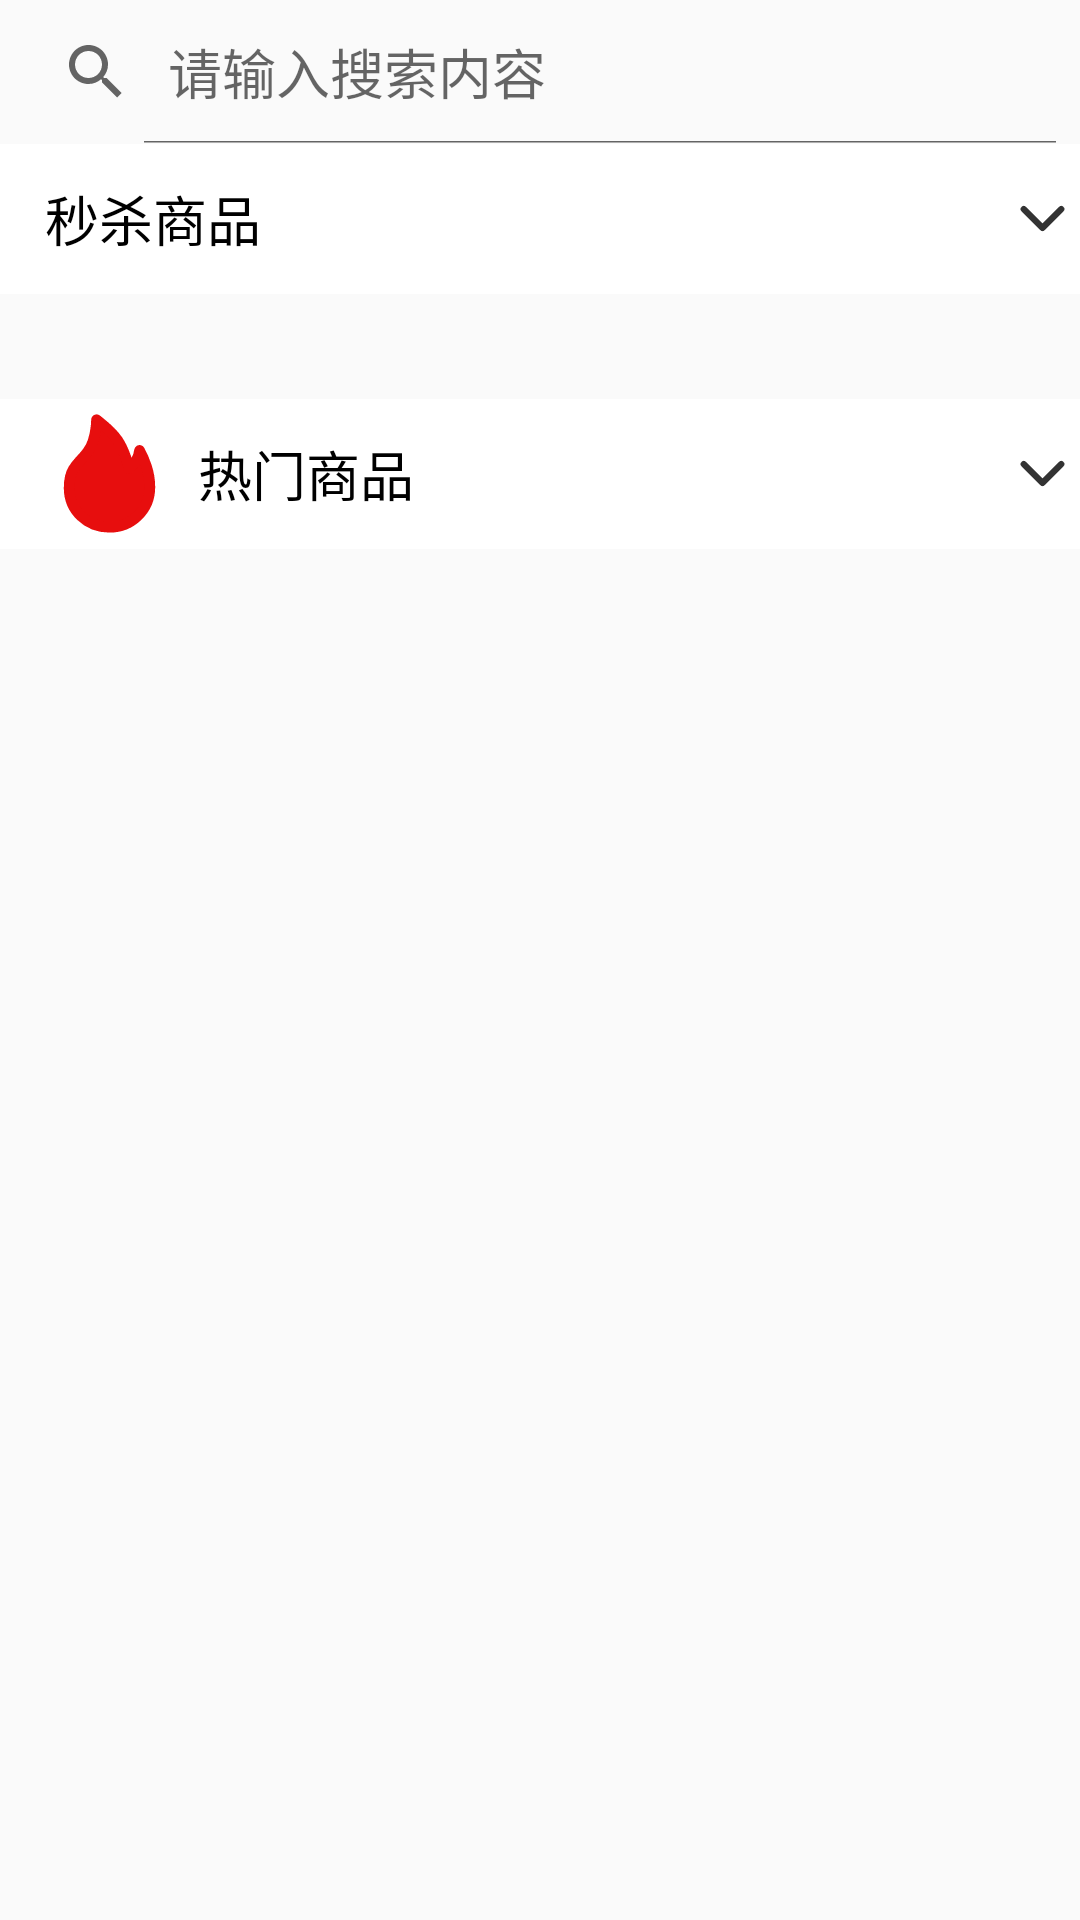

Named icons in this screenshot (1080 × 1920) and their centers, (x,y):
down: (1042,218), (1042,473)
